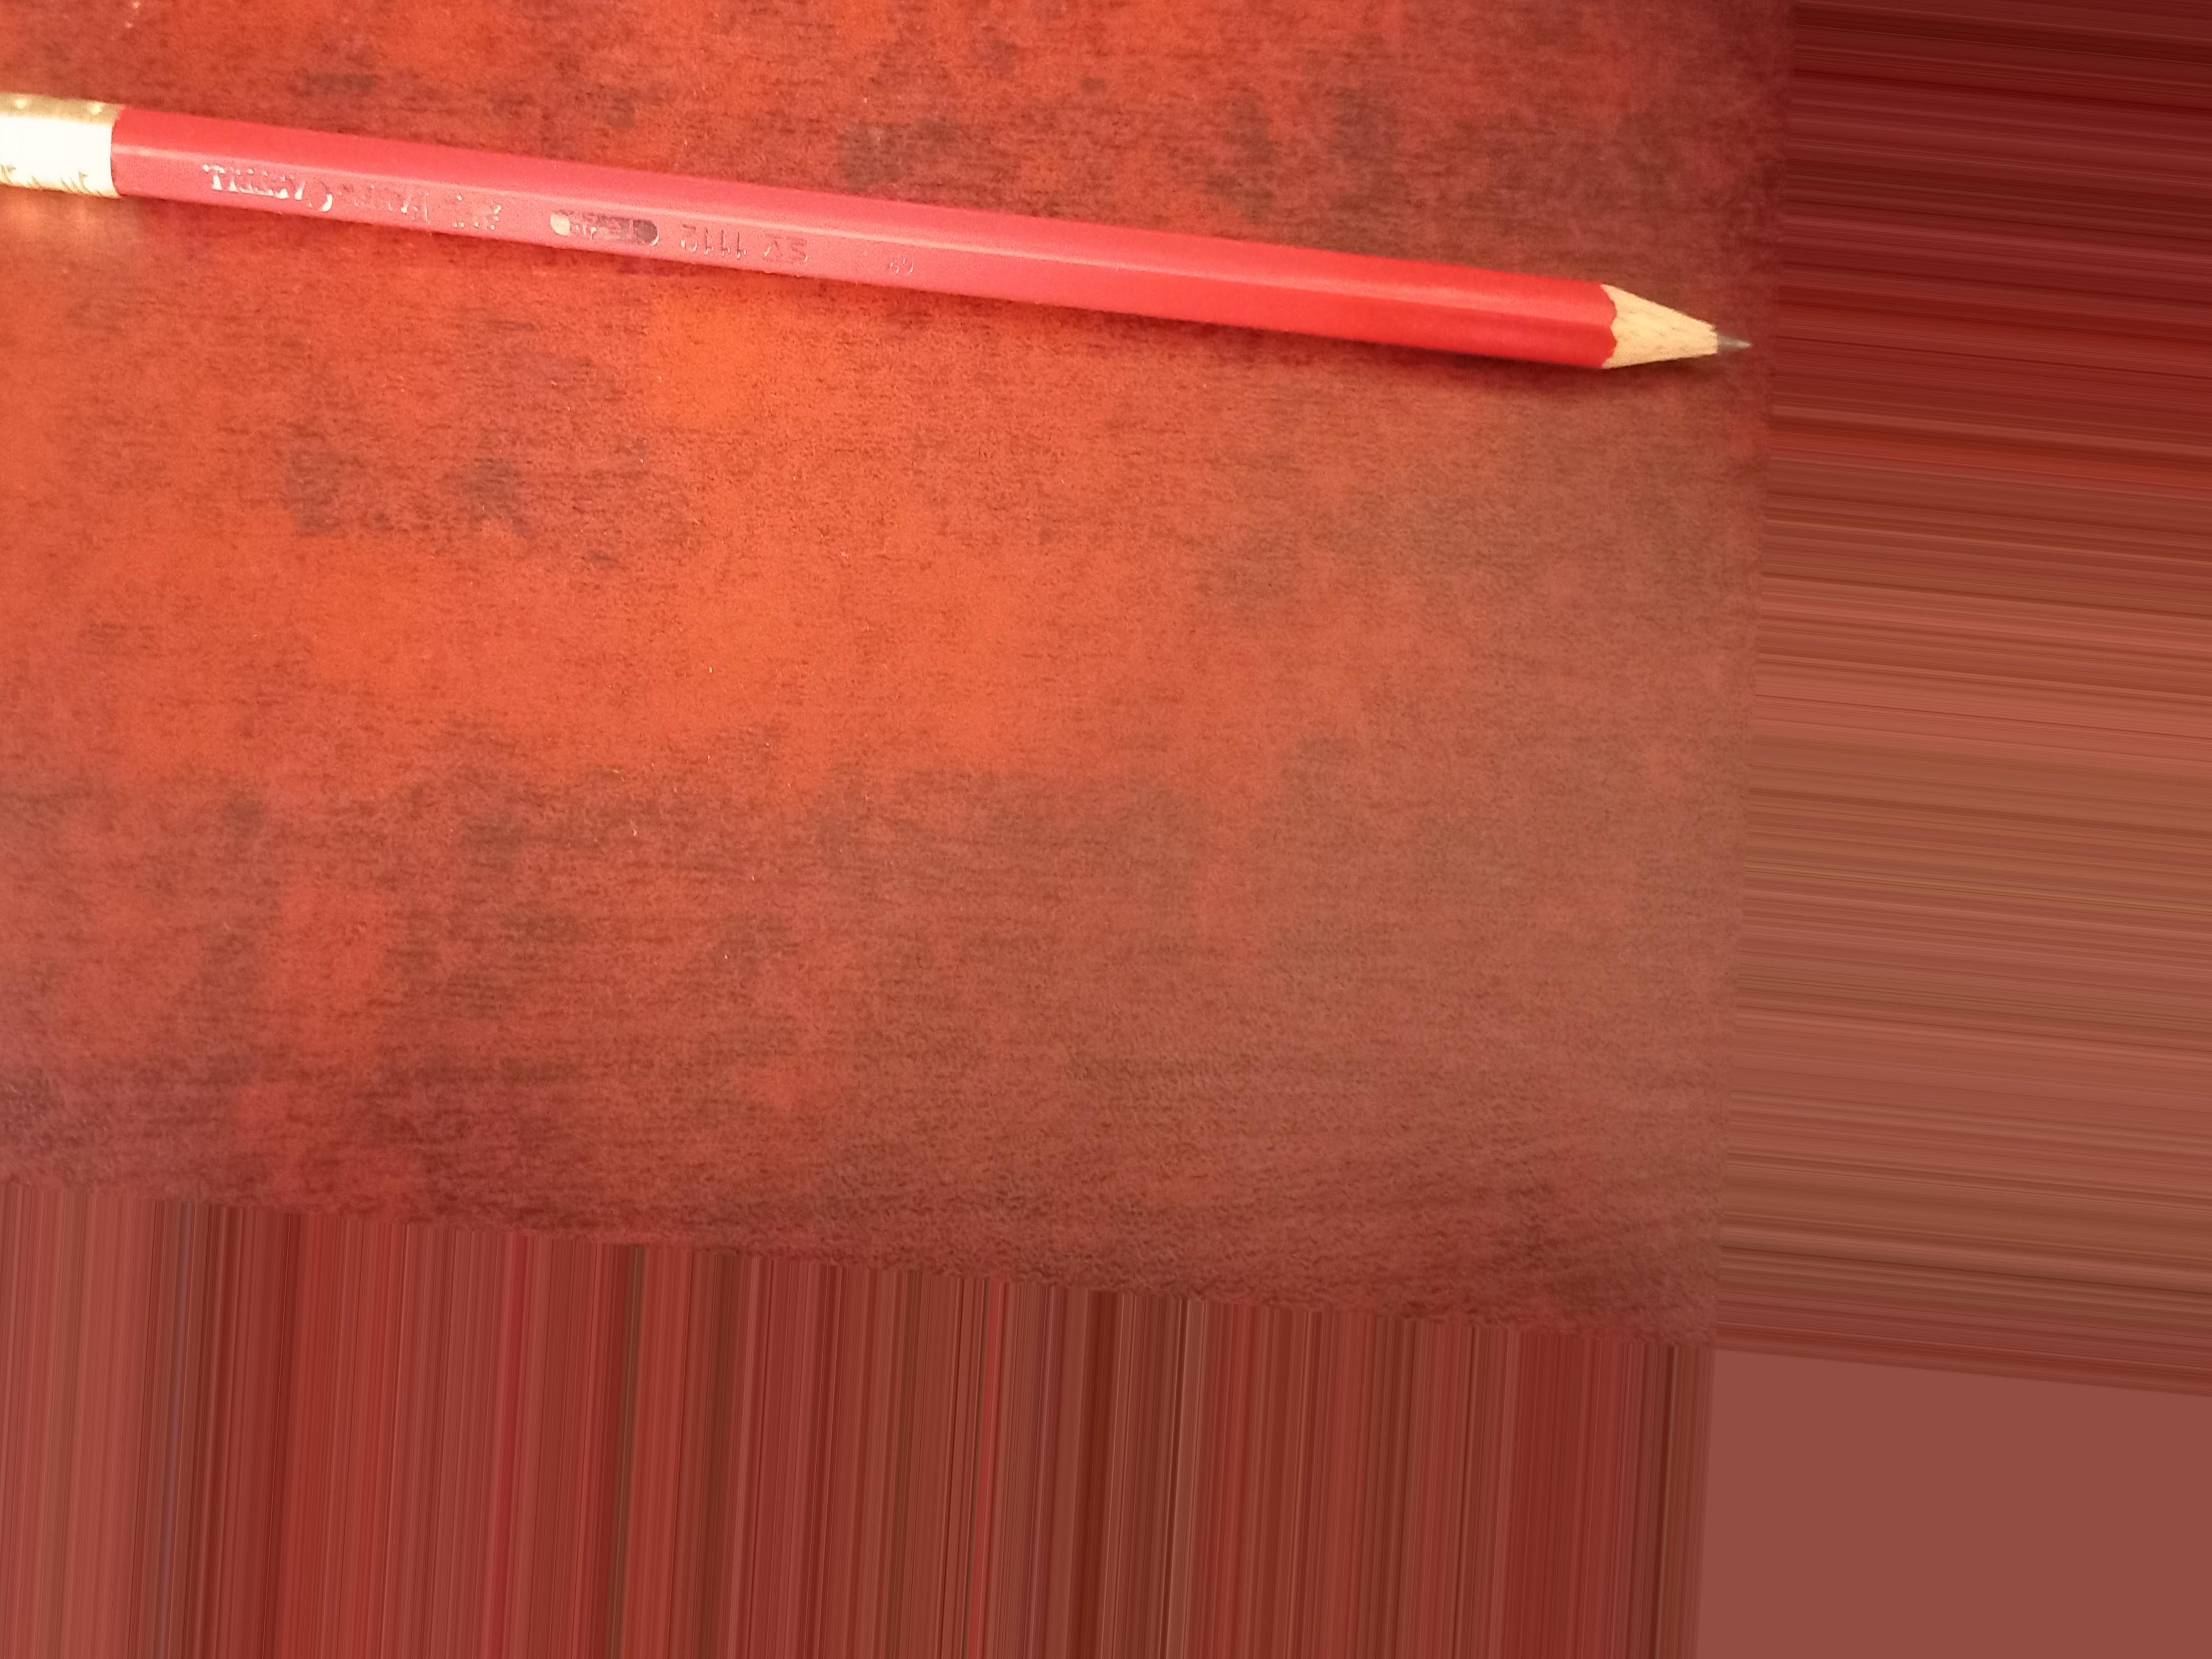pencil: (2, 92, 1761, 389)
